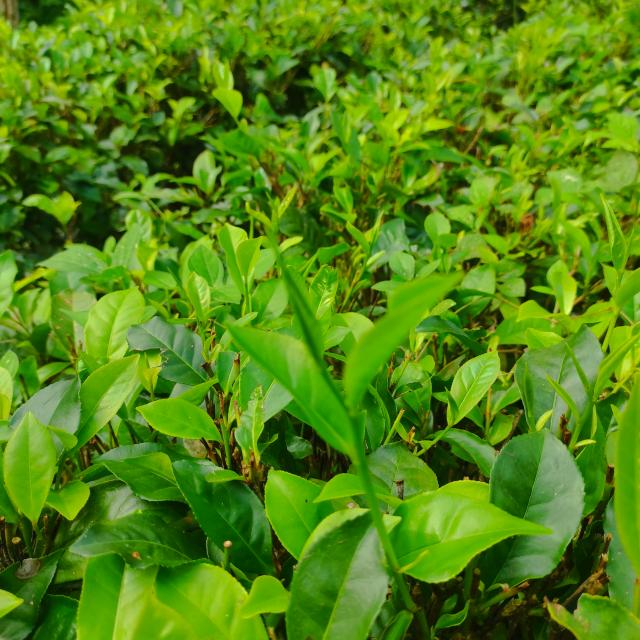unopened_leaf: (256, 208, 336, 388), (560, 336, 600, 406), (544, 372, 589, 427), (162, 261, 200, 315), (616, 220, 638, 281), (362, 208, 389, 257), (192, 305, 214, 364), (442, 382, 464, 432), (158, 285, 178, 320), (263, 186, 281, 218), (437, 242, 452, 274)
